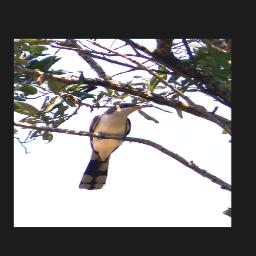Cuckoo: (75, 102, 153, 192)
